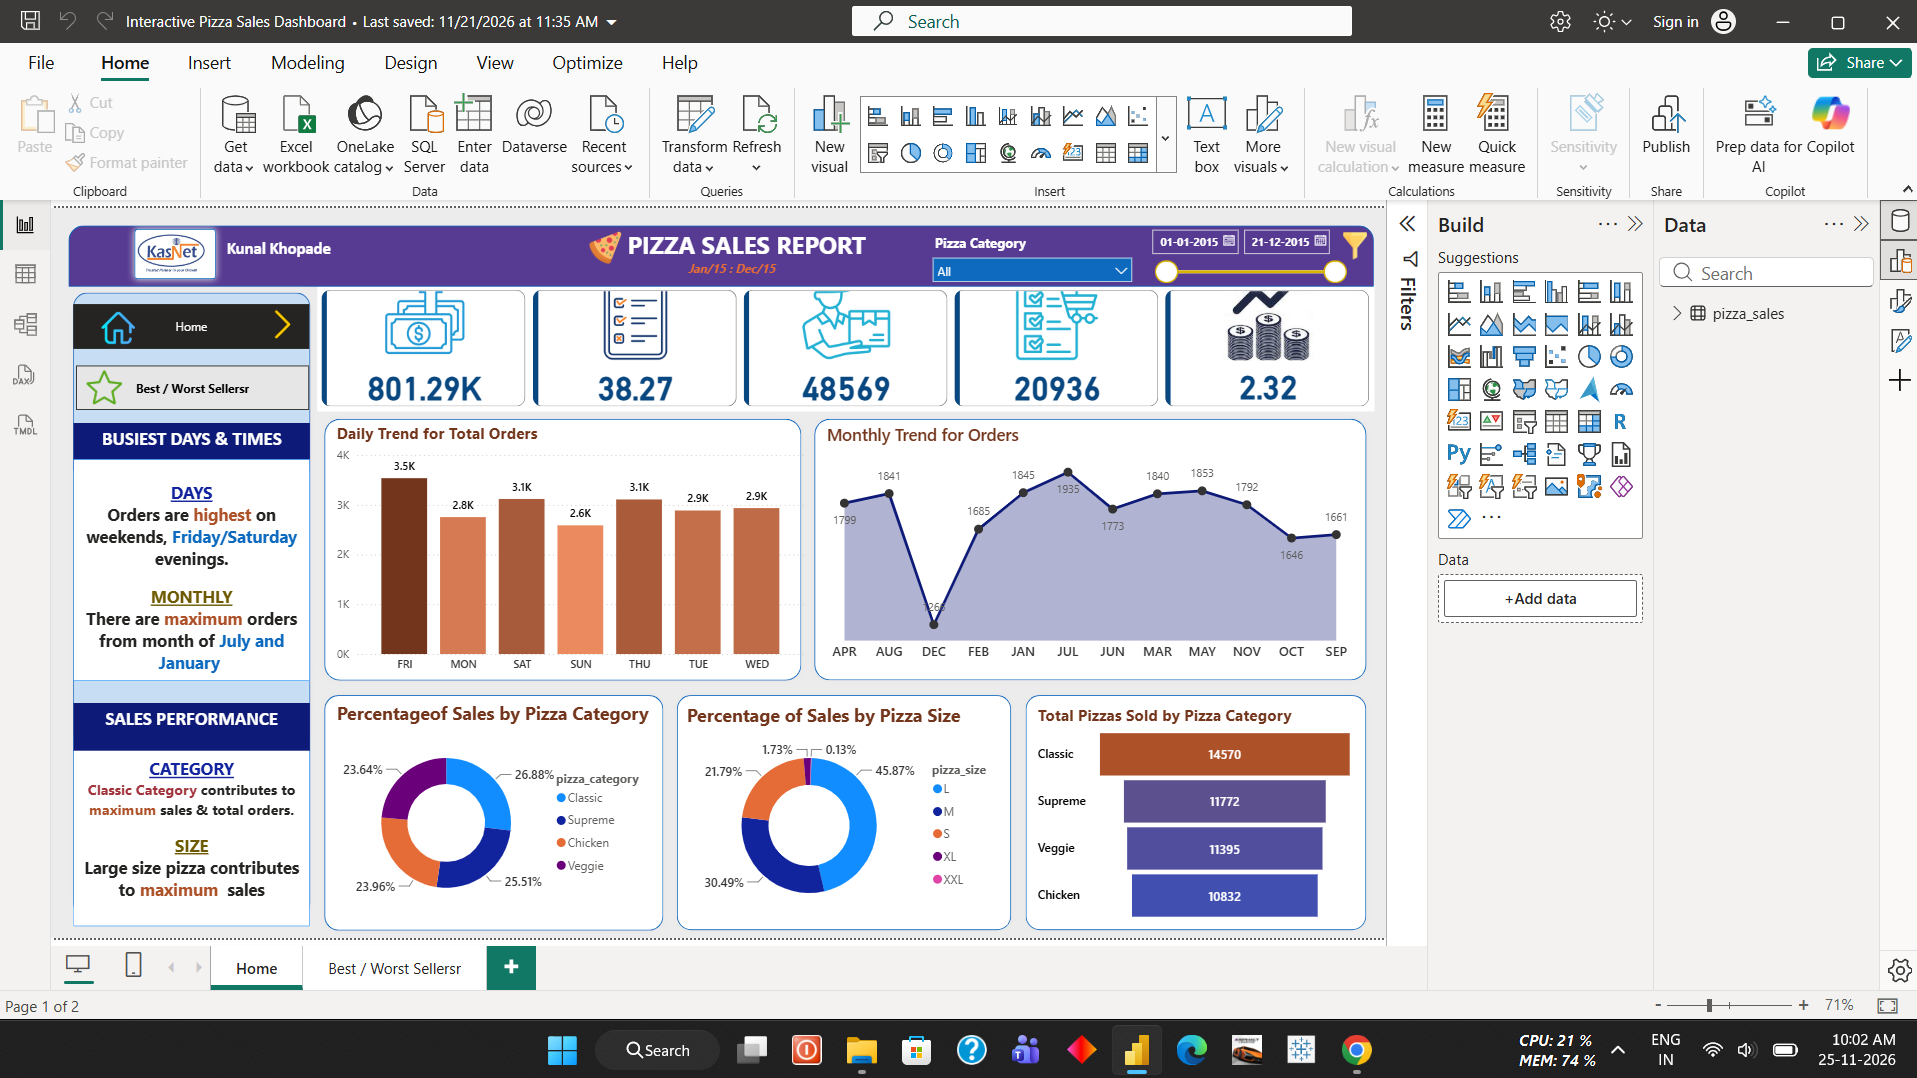

This screenshot's page, from the dashboard's own definition file:
{"tool":"powerbi","page":{"name":"Home","canvas":[1500,820],"ordinal":0},"visuals":[{"type":"shape","box":[299,228.9,551.9,310.1],"z":0},{"type":"cardVisual","fields":{"Data":["pizza_sales.Total Renevue","pizza_sales.Avg Order Vavle","pizza_sales.Total Pizzas Sold","pizza_sales.Total Orders","pizza_sales.Avg Pizzas Per Order"]},"box":[298.7,86.7,1187.6,142],"z":1000},{"type":"shape","box":[19,19,1466.8,68.8],"z":2000},{"type":"textbox","box":[580.9,18.4,400.2,49.8],"z":3000},{"type":"textbox","box":[710,53.5,271.1,51.6],"z":4000},{"type":"image","box":[574.4,21.4,97.3,47.5],"z":5000},{"type":"columnChart","title":"Daily Trend for Total Orders","fields":{"Category":["pizza_sales.Order Day"],"Y":["pizza_sales.Total Orders"]},"box":[315.6,241.8,535.3,289.8],"z":6000},{"type":"shape","box":[850.1,228.7,636.2,309.8],"z":7000},{"type":"areaChart","title":"Monthly Trend for Orders","fields":{"Category":["pizza_sales.Order Month"],"Y":["pizza_sales.Total Orders"]},"box":[866.3,242.1,602.8,277.7],"z":8000},{"type":"shape","box":[299,539,396.8,280.6],"z":9000},{"type":"shape","box":[695.4,538.8,391.6,280.1],"z":10000},{"type":"shape","box":[1087,538.8,398.7,280.1],"z":11000},{"type":"shape","box":[17.5,87.5,282.5,717.5],"z":12000},{"type":"donutChart","title":"Percentageof Sales by Pizza Category","fields":{"Category":["pizza_sales.pizza_category"],"Y":["pizza_sales.Total Renevue"]},"box":[315.6,553.7,365.5,249.2],"z":13000},{"type":"donutChart","title":"Percentage of Sales by Pizza Size","fields":{"Category":["pizza_sales.pizza_size"],"Y":["pizza_sales.Total Renevue"]},"box":[708.8,555.6,365.5,249.2],"z":14000},{"type":"funnel","title":"Total Pizzas Sold by Pizza Category","fields":{"Category":["pizza_sales.pizza_category"],"Y":["pizza_sales.Total Pizzas Sold"]},"box":[1103.6,557.8,365.5,249.2],"z":15000},{"type":"textbox","box":[25.8,241.8,265.8,53.5],"z":16000},{"type":"textbox","box":[25.8,282.4,265.8,249.2],"z":17000},{"type":"textbox","box":[25.8,592.5,265.8,214.1],"z":18000},{"type":"textbox","box":[25.8,555.6,265.8,53.5],"z":19000},{"type":"slicer","fields":{"Values":["pizza_sales.pizza_category"]},"box":[980.2,23.7,244.5,59.3],"z":20000},{"type":"slicer","fields":{"Values":["pizza_sales.order_date"]},"box":[1224.7,14.2,244.5,109.2],"z":21000},{"type":"pageNavigator","box":[25,107.5,265,50],"z":22000},{"type":"pageNavigator","box":[27.5,177.5,262.5,50],"z":23000},{"type":"image","box":[230,110,60,42.5],"z":24000},{"type":"image","box":[52.5,110,47.5,50],"z":25000},{"type":"image","box":[35,172.5,50,57.5],"z":26000},{"type":"image","box":[1445,22.5,40,40],"z":27000},{"type":"shape","box":[85,15,107.5,72.5],"z":28000},{"type":"image","box":[92.5,17.5,85,67.5],"z":29000},{"type":"textbox","box":[192.5,30,270,52.5],"z":30000}]}

Visuals, with their boxes on the page's 1500x820 design canvas (x1, y1, x2, y2). These are canvas units, not pixel positions in the 1917x1078 screenshot, which may show the page scaled, cropped or inside an application window:
shape: box(299, 229, 851, 539)
cardVisual - pizza_sales.Total Renevue x pizza_sales.Avg Order Vavle: box(299, 87, 1486, 229)
shape: box(19, 19, 1486, 88)
textbox: box(581, 18, 981, 68)
textbox: box(710, 54, 981, 105)
image: box(574, 21, 672, 69)
"Daily Trend for Total Orders" columnChart: box(316, 242, 851, 532)
shape: box(850, 229, 1486, 538)
"Monthly Trend for Orders" areaChart: box(866, 242, 1469, 520)
shape: box(299, 539, 696, 820)
shape: box(695, 539, 1087, 819)
shape: box(1087, 539, 1486, 819)
shape: box(18, 88, 300, 805)
"Percentageof Sales by Pizza Category" donutChart: box(316, 554, 681, 803)
"Percentage of Sales by Pizza Size" donutChart: box(709, 556, 1074, 805)
"Total Pizzas Sold by Pizza Category" funnel: box(1104, 558, 1469, 807)
textbox: box(26, 242, 292, 295)
textbox: box(26, 282, 292, 532)
textbox: box(26, 592, 292, 807)
textbox: box(26, 556, 292, 609)
slicer - pizza_sales.pizza_category: box(980, 24, 1225, 83)
slicer - pizza_sales.order_date: box(1225, 14, 1469, 123)
pageNavigator: box(25, 108, 290, 158)
pageNavigator: box(28, 178, 290, 228)
image: box(230, 110, 290, 152)
image: box(52, 110, 100, 160)
image: box(35, 172, 85, 230)
image: box(1445, 22, 1485, 62)
shape: box(85, 15, 192, 88)
image: box(92, 18, 178, 85)
textbox: box(192, 30, 462, 82)
